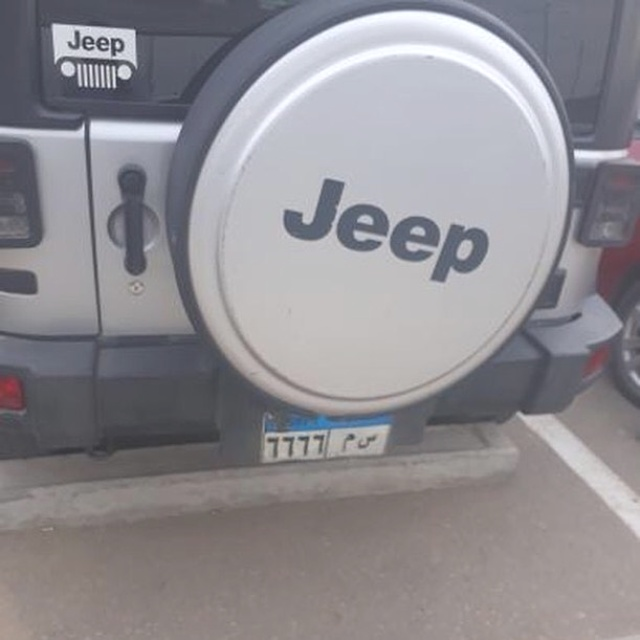License Plate: (257, 409, 396, 467)
